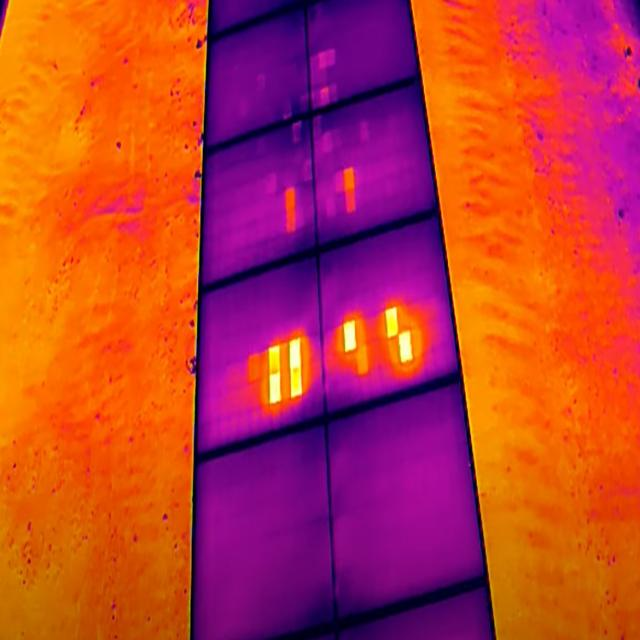hotspot group: (329, 300, 441, 385), (252, 330, 318, 417), (340, 158, 366, 221), (279, 180, 299, 240)
panel with hotspots: (317, 210, 463, 424), (194, 253, 328, 467), (307, 77, 440, 255), (199, 111, 319, 295)
